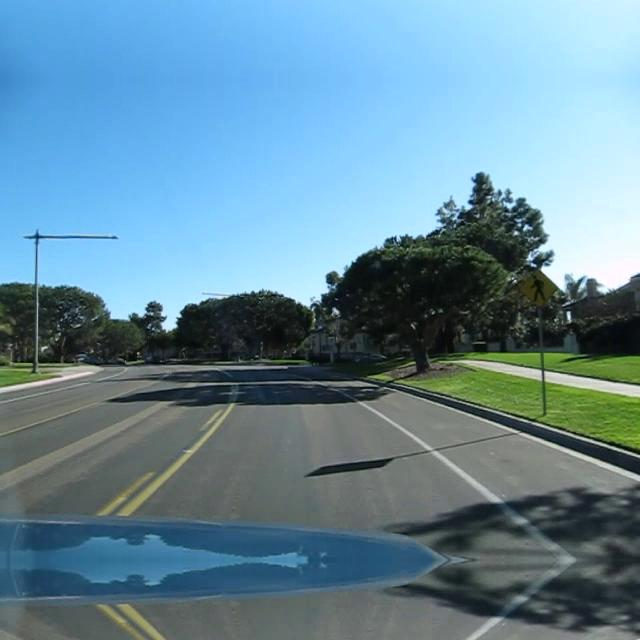pedestrianCrossing: (516, 267, 558, 309)
